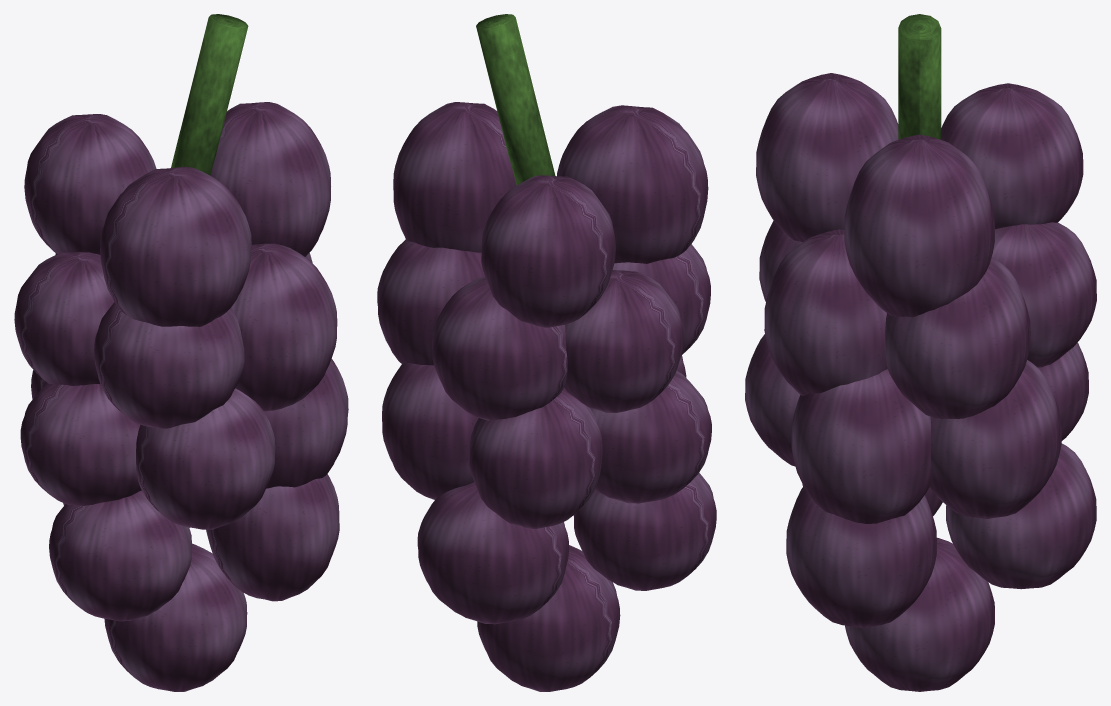
The model's file is grapes.glb.
The picture shows the model from 3 angles, left to right: view 1: azimuth 30°, elevation 25°; view 2: azimuth 150°, elevation 25°; view 3: azimuth 270°, elevation 25°; orthographic projection. The views are drawn at different scales.
Visible parts, largest first — view 1: grape, stem; view 2: grape, stem; view 3: grape, stem.
Part boxes in pixels (<box>): grape: <box>14,102,348,691</box>; stem: <box>171,14,248,175</box>; grape: <box>377,102,716,691</box>; stem: <box>476,14,555,184</box>; grape: <box>745,73,1096,691</box>; stem: <box>898,14,941,139</box>.
Size of the model in its own units: 0.0671 by 0.1419 by 0.0656.
Materials: 2 (2 with a texture image).
